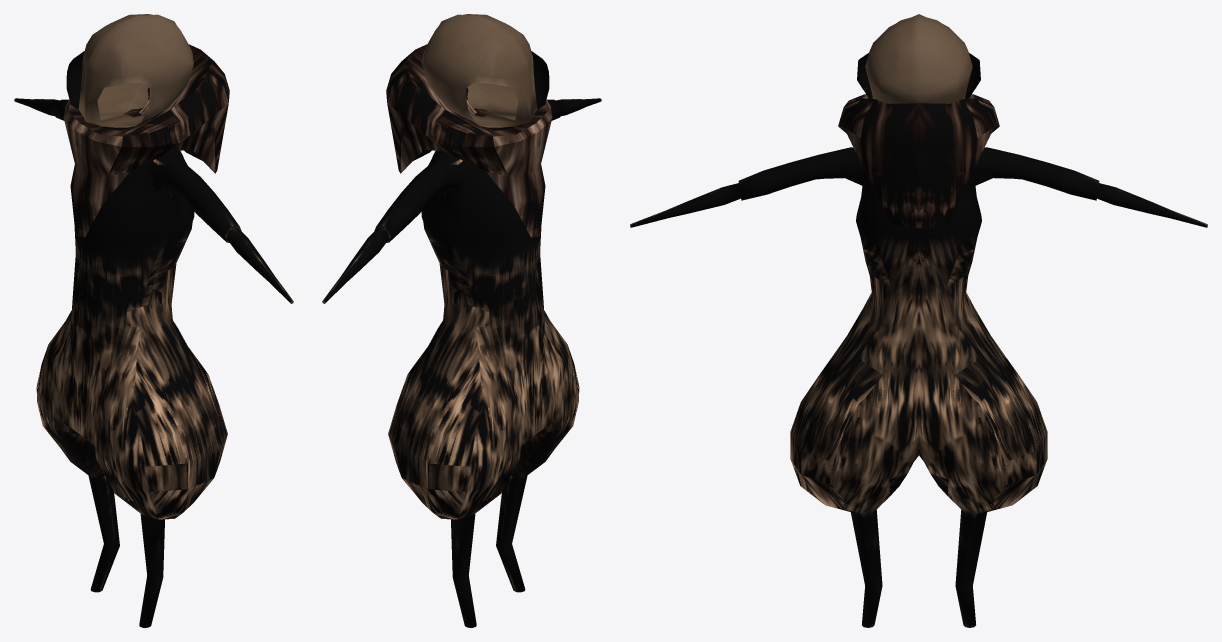
The model's file is moth_base_model.fbx.
The picture shows the model from 3 angles, left to right: view 1: azimuth 30°, elevation 25°; view 2: azimuth 150°, elevation 25°; view 3: azimuth 270°, elevation 25°; orthographic projection. The views are drawn at different scales.
Visible parts, largest first — view 1: Cube.001, Cube.002; view 2: Cube.001, Cube.002; view 3: Cube.001, Cube.002.
Boxes of the visible parts, left/top/right/bottom form: Cube.001: left=14, top=14, right=293, bottom=627; Cube.002: left=63, top=44, right=229, bottom=237; Cube.001: left=322, top=14, right=601, bottom=627; Cube.002: left=386, top=44, right=552, bottom=237; Cube.001: left=630, top=14, right=1207, bottom=627; Cube.002: left=838, top=94, right=999, bottom=228.
Bounding box in the file's own units: 61.98 × 240 × 205.
